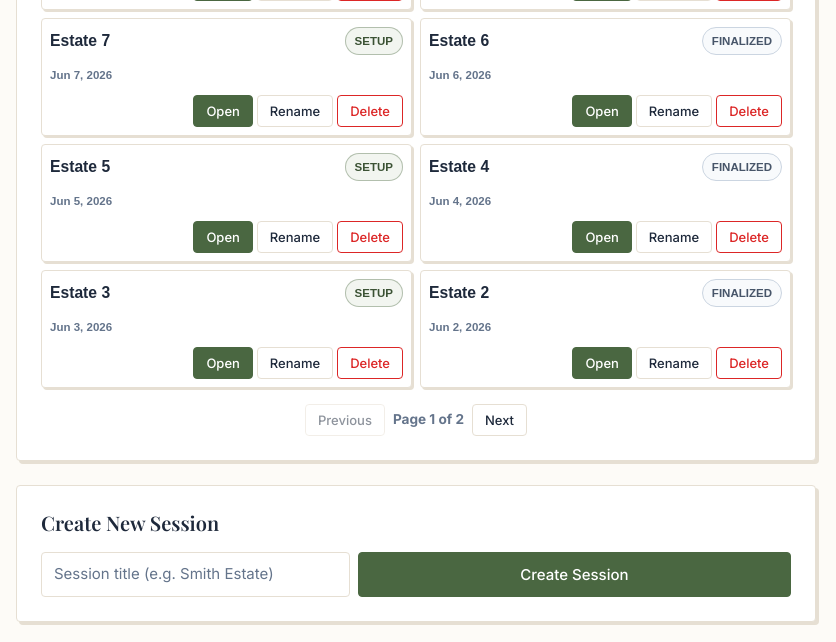
Test: AdminDashboard › supports searching, filtering, and paginating the session index
(page scrolled)
Expected: the text "Alpha Estate" is not shown
Click the button "Next": (500, 420) [472,404,527,436]
(page scrolled)
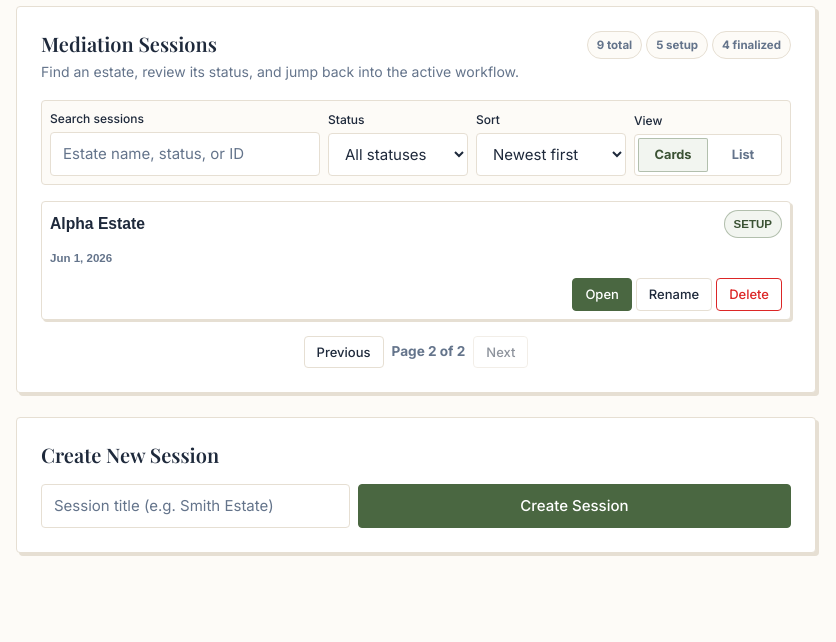
Result: the text "Alpha Estate" is shown at [50,215,145,232]
In the search field with test id "session-search-input": (185, 154) [50,132,320,176], type "Estate 8"
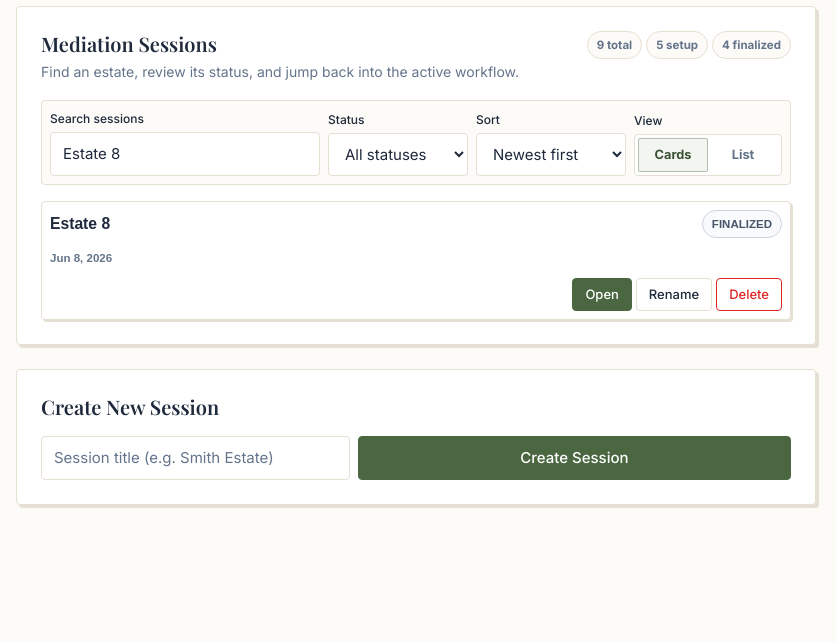
Result: the text "Estate 8" is shown at [50,215,110,232]
Result: the button "Alpha Estate" is gone
Select "SETUP" in the dropdown with test id "session-status-filter": (398, 155) [328,133,468,176]
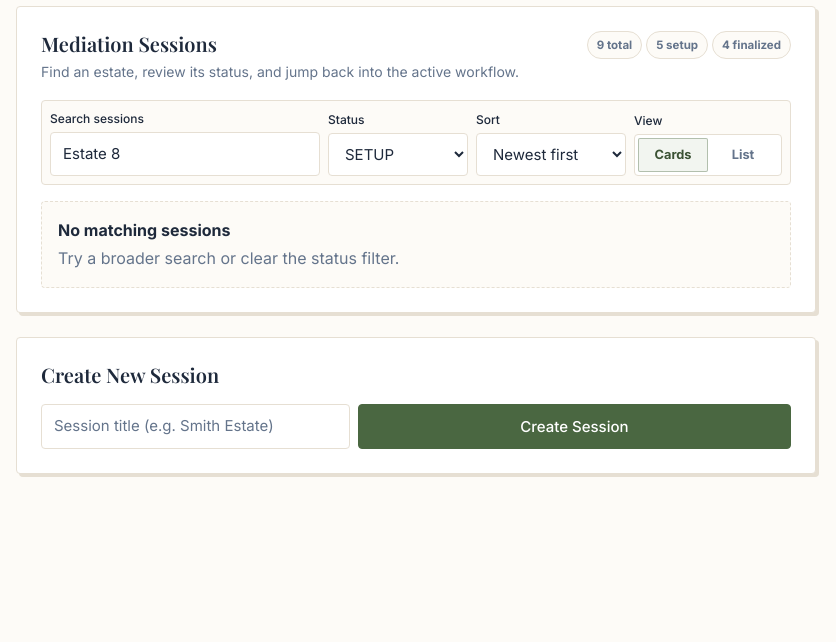
Result: the text "No matching sessions" is shown at [58,220,230,240]
